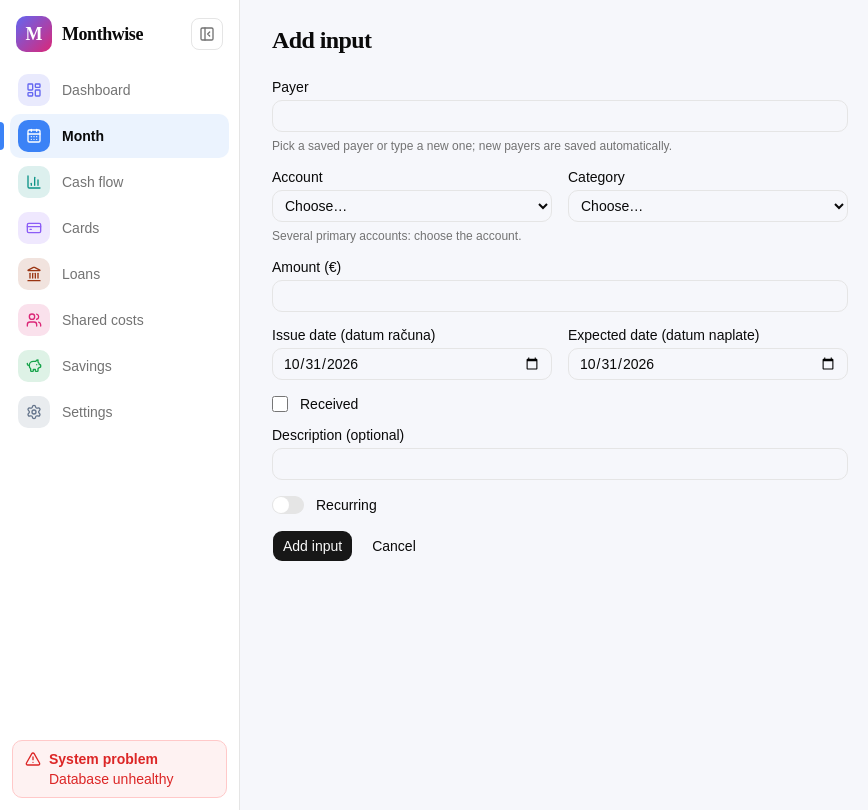
Scenario: Add input form › makes the user choose when several accounts are primary
The image size is (868, 810).
Expected: the dropdown labelled "Account" shows "Choose…", 272,190 -> 552,222
Expected: the text "Several primary accounts: choose the account." is shown, 272,228 -> 552,244
Click the button "Add input". click: (313, 546)
box: 272,530 -> 353,562
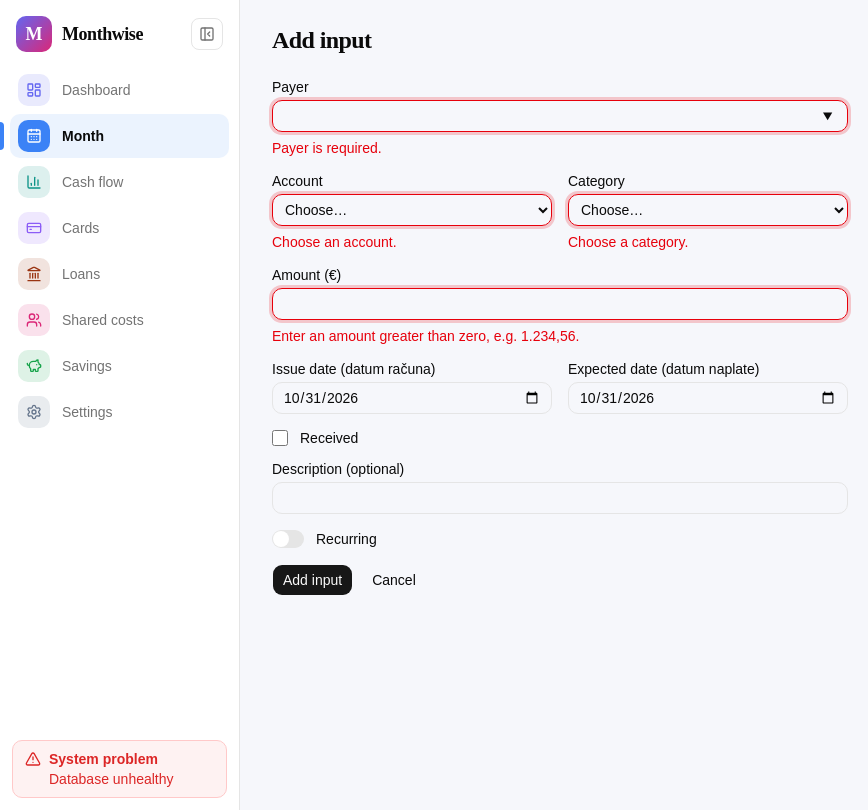
Expected: the text "Choose an account." is shown, 272,234 -> 396,250
